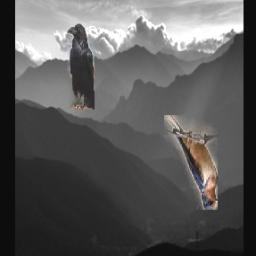Crow: (68, 24, 95, 111)
Swallow: (164, 115, 218, 210)
